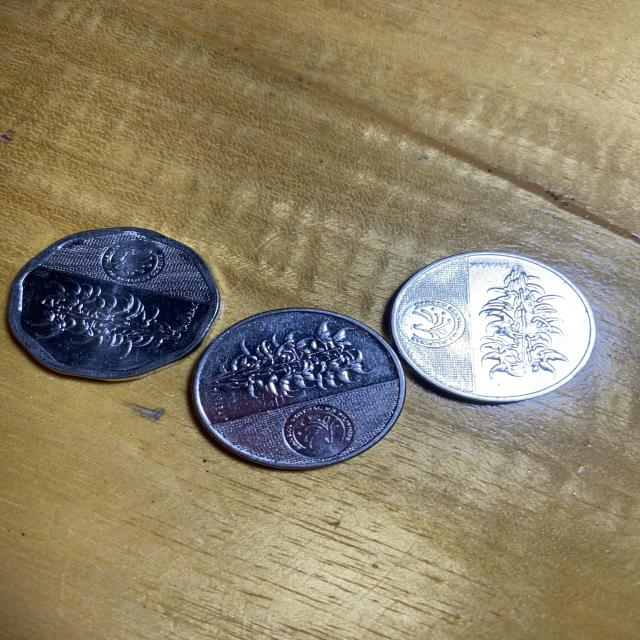5_New_Back: (470, 261, 571, 376), (215, 325, 365, 396), (30, 284, 184, 353)
